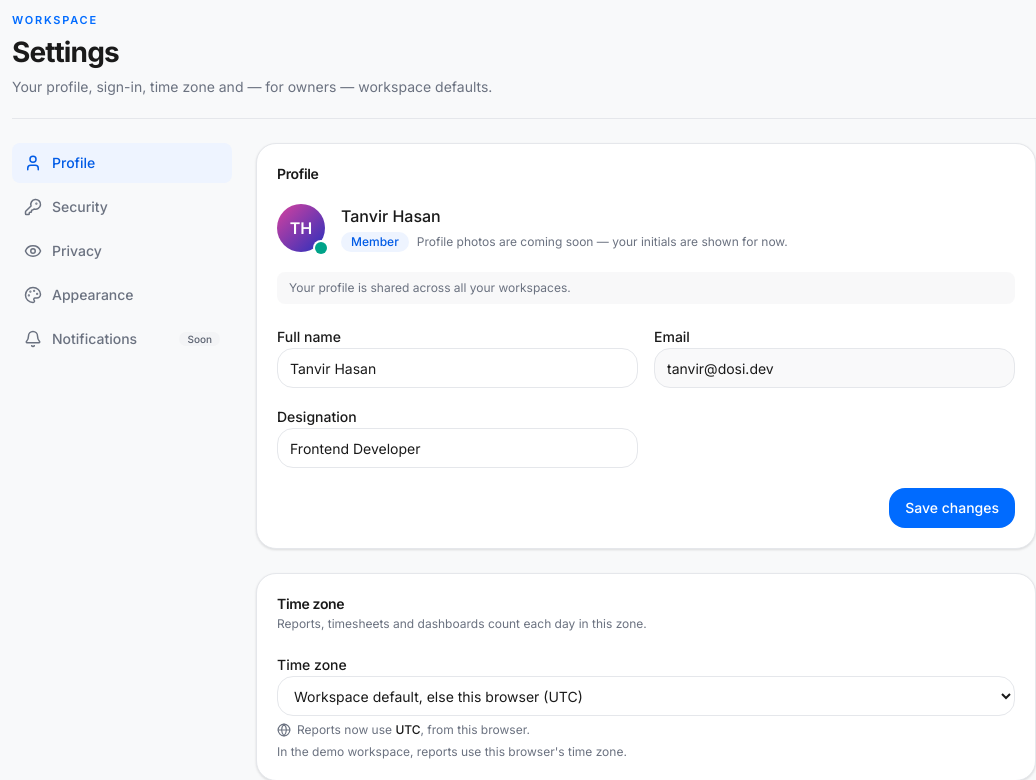
Test case: settings page — demo mode (no backend session) › explains that the demo has no account to change instead of offering a form that does nothing
Click the tab "Security" at (122, 207), box [12,187,232,227]
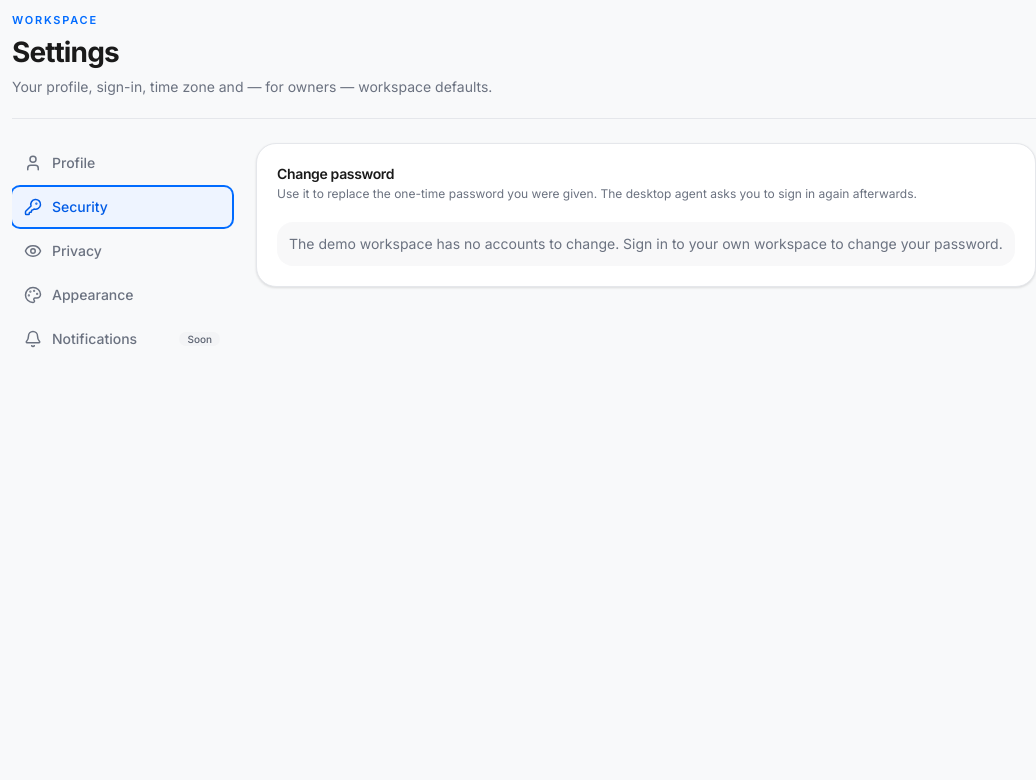
Expected: the text "demo workspace has no accounts to change" is shown, [289,235,1003,252]
